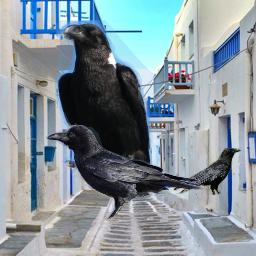Crow: (55, 20, 162, 190), (46, 125, 203, 222), (173, 148, 241, 195)
